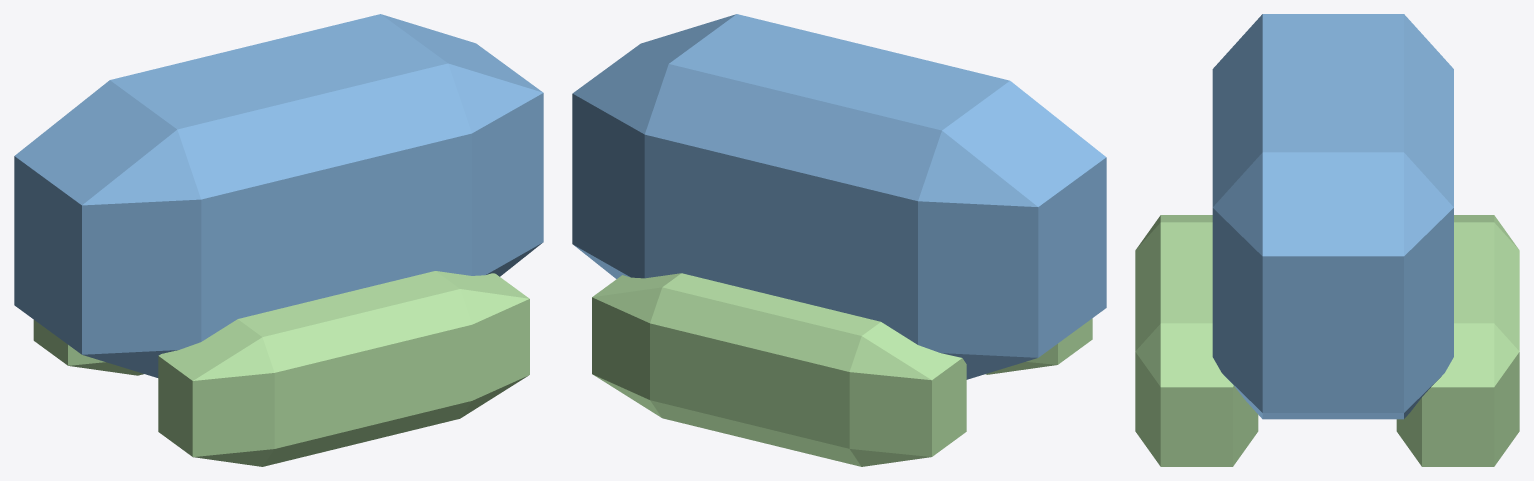
Rendered from test shark 2.glb.
3 views of the same model, side by side, from view 1: azimuth 30°, elevation 25°; view 2: azimuth 150°, elevation 25°; view 3: azimuth 270°, elevation 25° (orthographic). The views are drawn at different scales.
Visible parts, largest first — view 1: tread; view 2: tread; view 3: tread.
Boxes of the visible parts, <box> form: tread: <box>14,14,543,466</box>; tread: <box>572,14,1106,466</box>; tread: <box>1135,14,1519,466</box>.
Size of the model in its own units: 2.9 by 1.87 by 2.
